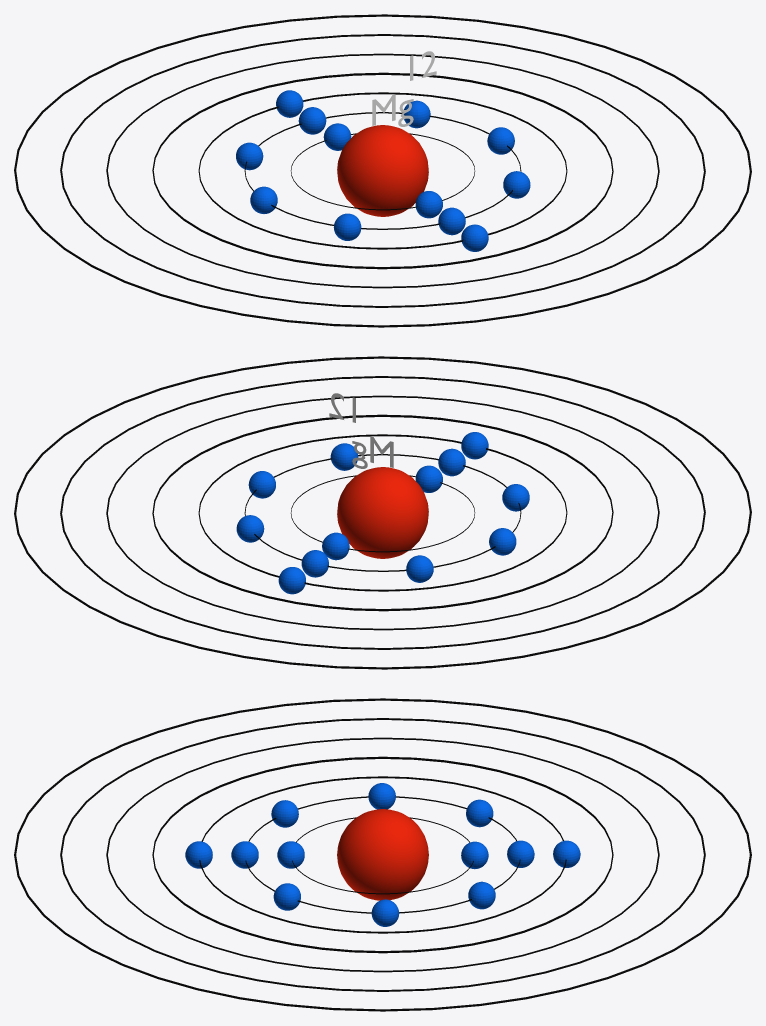
The picture shows the model from 3 angles, top to bottom: view 1: azimuth 30°, elevation 25°; view 2: azimuth 150°, elevation 25°; view 3: azimuth 270°, elevation 25°; orthographic projection.
Parts seen in each view (by area): view 1: Proton, Mg2, n7, n6, n5, n4, n3, Mg3, Mg1, n2, MgText; view 2: Proton, Mg2, n7, n6, n5, n4, n3, Mg3, Mg1, n2, MgText; view 3: Proton, Mg2, n7, n6, n5, n4, n3, Mg1, Mg3, n2, n1.
Boxes of the visible parts, <box> form: Proton: <box>337,125,428,216</box>; Mg2: <box>236,100,530,240</box>; n7: <box>14,14,751,327</box>; n6: <box>60,34,705,307</box>; n5: <box>106,53,659,288</box>; n4: <box>152,72,613,269</box>; n3: <box>198,92,567,249</box>; Mg3: <box>276,90,488,251</box>; Mg1: <box>323,123,442,218</box>; n2: <box>244,112,521,229</box>; MgText: <box>372,94,413,126</box>; Proton: <box>337,467,428,558</box>; Mg2: <box>236,443,529,582</box>; n7: <box>14,356,751,669</box>; n6: <box>60,376,705,649</box>; n5: <box>106,395,659,630</box>; n4: <box>152,414,613,611</box>; n3: <box>198,434,567,591</box>; Mg3: <box>278,432,488,594</box>; Mg1: <box>322,465,442,560</box>; n2: <box>244,454,521,571</box>; MgText: <box>352,436,393,468</box>; Proton: <box>337,809,428,900</box>; Mg2: <box>231,783,534,926</box>; n7: <box>14,698,751,1011</box>; n6: <box>60,718,705,991</box>; n5: <box>106,737,659,972</box>; n4: <box>152,756,613,953</box>; n3: <box>199,776,566,933</box>; Mg1: <box>277,841,488,869</box>; Mg3: <box>185,840,580,868</box>; n2: <box>245,796,520,913</box>; n1: <box>292,817,473,894</box>.
Size of the model in its own units: 802 by 180 by 802.
